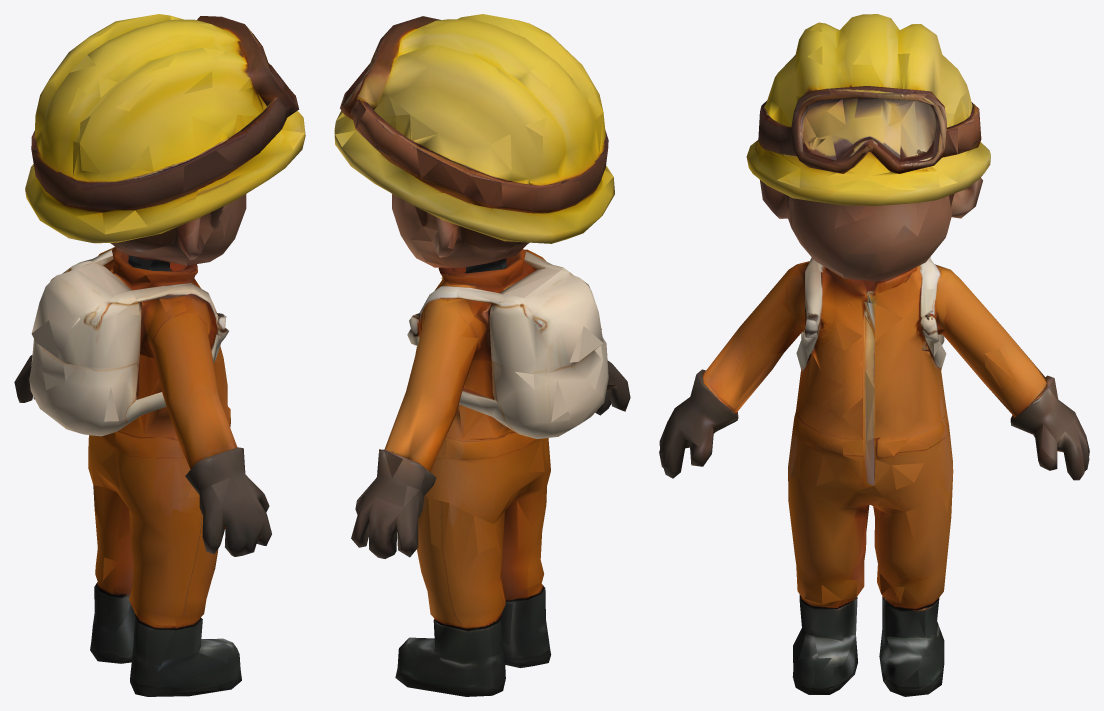
Rendered from WorkerIdle.fbx.
The picture shows the model from 3 angles, left to right: view 1: azimuth 30°, elevation 25°; view 2: azimuth 150°, elevation 25°; view 3: azimuth 270°, elevation 25°; orthographic projection.
Visible parts, largest first — view 1: tripo_node_94cef592; view 2: tripo_node_94cef592; view 3: tripo_node_94cef592.
Part boxes in pixels (box(x1,y1,x2,y2)): tripo_node_94cef592: box(14, 14, 305, 696); tripo_node_94cef592: box(334, 14, 630, 696); tripo_node_94cef592: box(659, 14, 1089, 696).
Size of the model in its own units: 39.61 by 100 by 60.62.
1 material, 1 textured.
